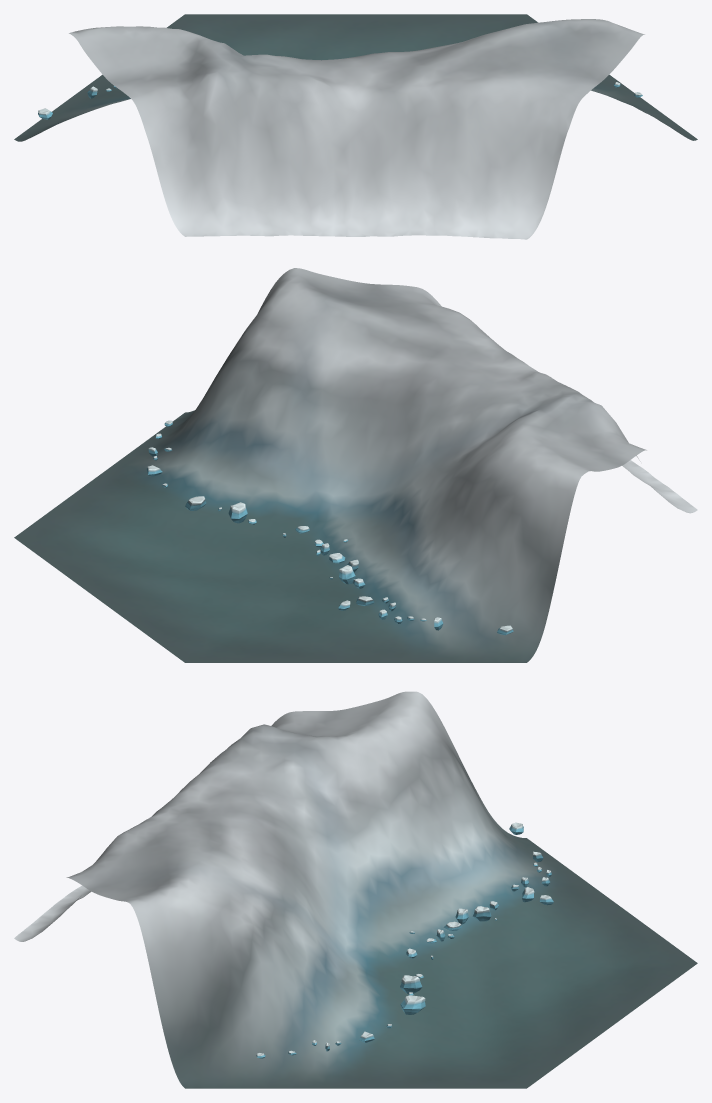
Rendered from costa_+05_-11.glb.
3 renders of one model, top to bottom at view 1: azimuth 30°, elevation 25°; view 2: azimuth 150°, elevation 25°; view 3: azimuth 270°, elevation 25°, orthographic.
Parts seen in each view (by area): view 1: terrain; view 2: terrain, Formações costeiras; view 3: terrain, Formações costeiras.
Boxes of the visible parts, x1,y1,x2,y2 form: terrain: (14, 14, 697, 239); terrain: (14, 268, 697, 662); Formações costeiras: (146, 420, 513, 635); terrain: (14, 691, 697, 1088); Formações costeiras: (256, 822, 553, 1058).
Size of the model in its own units: 4330 by 1253 by 5000.
1 material, 1 textured.
